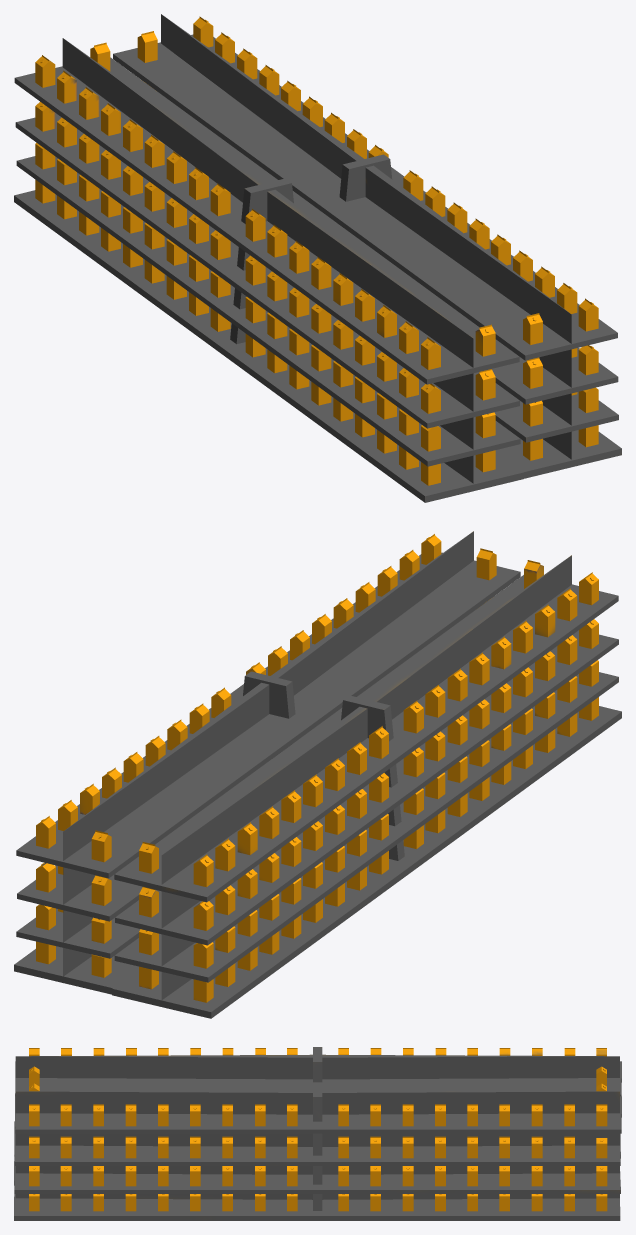
The model's file is EstanteriaJugo5x2.obj.
3 renders of one model, top to bottom at view 1: azimuth 30°, elevation 25°; view 2: azimuth 150°, elevation 25°; view 3: azimuth 270°, elevation 25°, orthographic. The views are drawn at different scales.
Parts seen in each view (by area): view 1: EstanteJugo5X2; view 2: EstanteJugo5X2; view 3: EstanteJugo5X2.
Boxes of the visible parts, bbox=[...] form: EstanteJugo5X2: bbox=[14, 14, 621, 502]; EstanteJugo5X2: bbox=[14, 531, 621, 1018]; EstanteJugo5X2: bbox=[14, 1047, 621, 1220].
Bounding box in the file's own units: 2.8 × 2.1 × 10.18.
